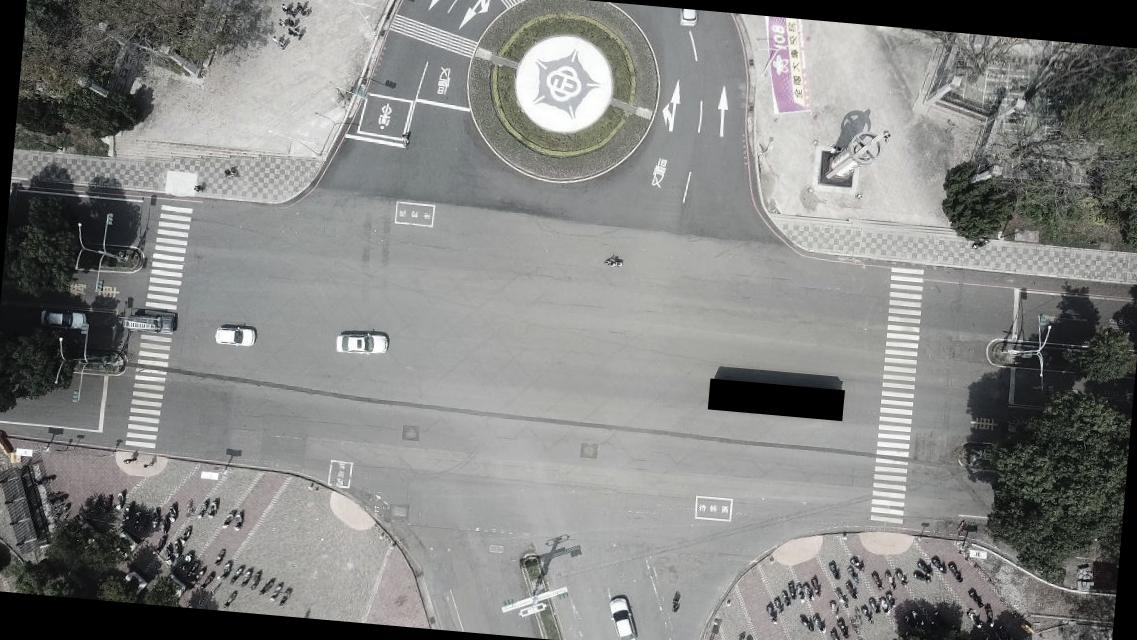vehicle: (121, 310, 179, 339), (603, 595, 641, 639), (333, 328, 389, 356), (34, 308, 89, 336), (212, 324, 256, 350)
